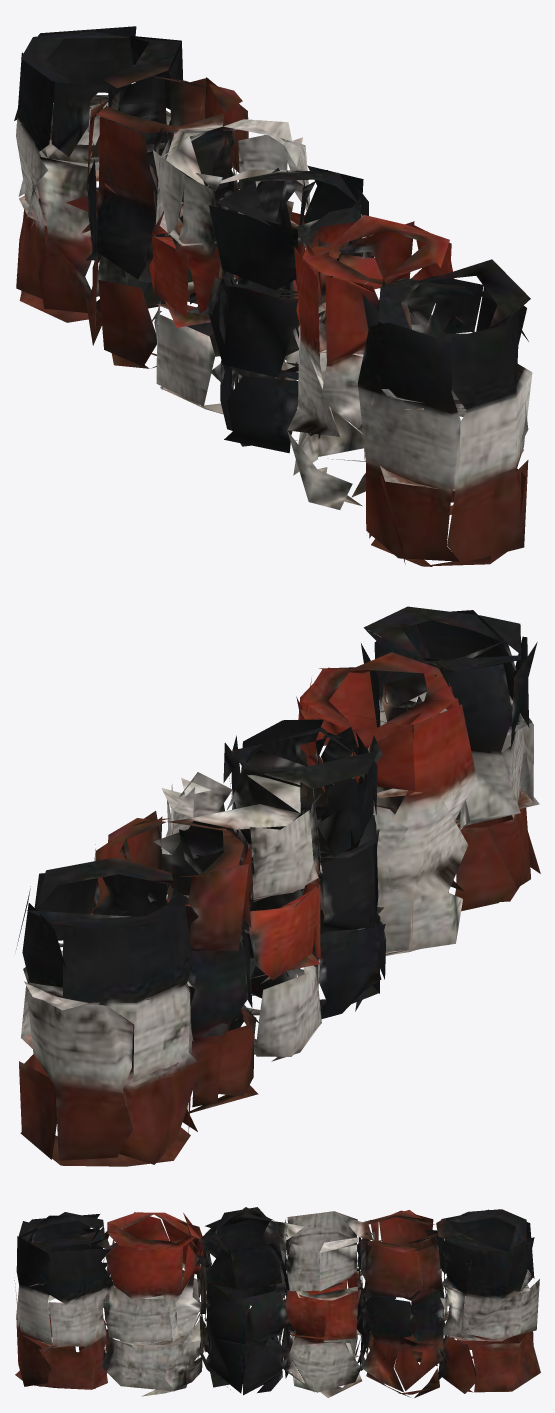
File: drift_reifenwand.glb
The picture shows the model from 3 angles, top to bottom: view 1: azimuth 30°, elevation 25°; view 2: azimuth 150°, elevation 25°; view 3: azimuth 270°, elevation 25°; orthographic projection. The views are drawn at different scales.
Parts seen in each view (by area): view 1: Prop; view 2: Prop; view 3: Prop.
Boxes of the visible parts, x1=… form: Prop: x1=14, y1=26, x2=532, y2=566; Prop: x1=16, y1=606, x2=540, y2=1166; Prop: x1=14, y1=1207, x2=540, y2=1397.
Bounding box in the file's own units: 0.685 × 1.09 × 3.23.
1 material, 1 textured.
